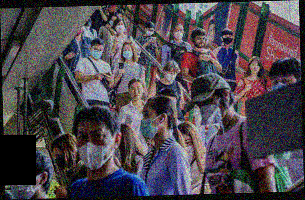with_mask: (75, 126, 115, 171), (10, 168, 43, 200), (194, 95, 226, 126), (140, 106, 164, 138), (52, 148, 74, 171), (90, 45, 105, 60), (165, 69, 177, 83), (123, 45, 134, 60), (114, 21, 127, 33), (172, 27, 184, 40), (222, 34, 233, 45), (145, 27, 155, 36)
without_mask: (129, 85, 144, 100), (249, 61, 262, 73), (194, 35, 206, 48)
